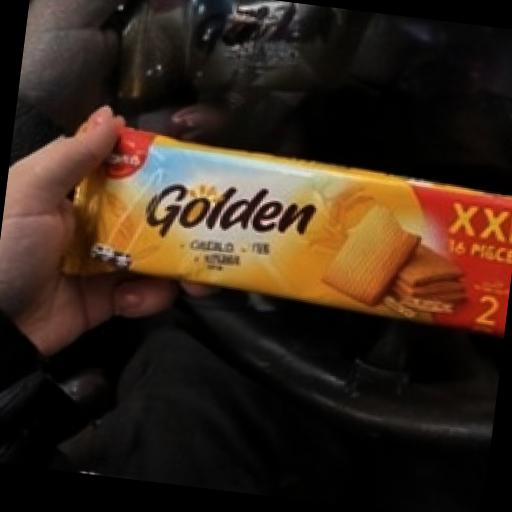golden: (20, 63, 512, 383)
